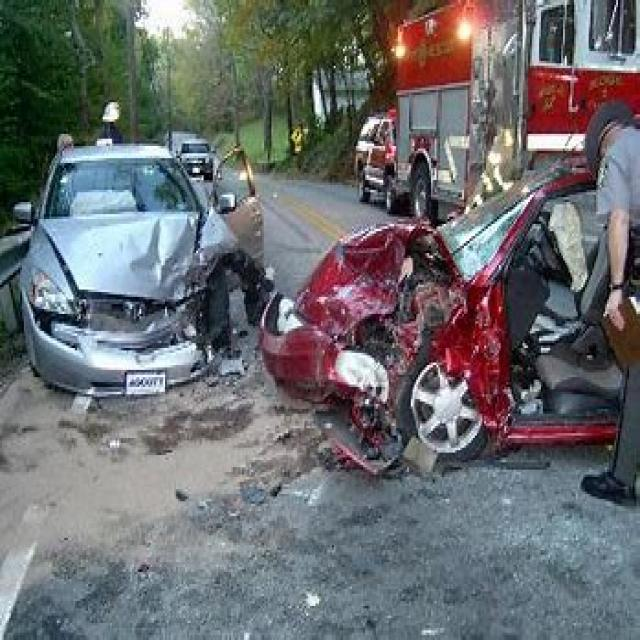Accident: (47, 94, 640, 509)
